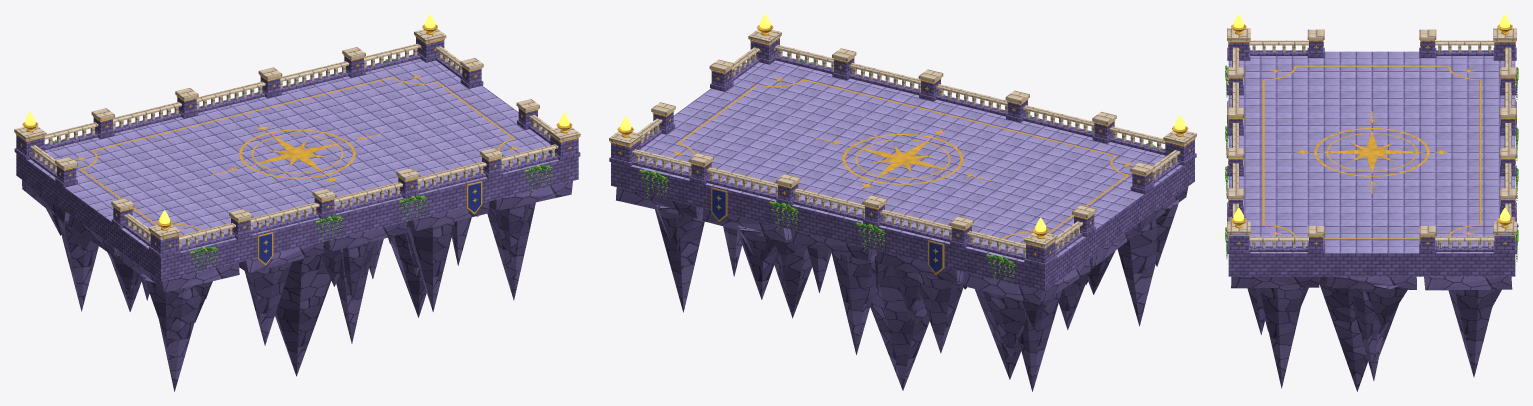
The model's file is Arena.fbx.
The picture shows the model from 3 angles, left to right: view 1: azimuth 30°, elevation 25°; view 2: azimuth 150°, elevation 25°; view 3: azimuth 270°, elevation 25°; orthographic projection. The views are drawn at different scales.
Visible parts, largest first — view 1: Mod_Arena, Arena_Baranda_04, Arena_Baranda_08, Arena_Baranda_02, Arena_Baranda_03, Arena_Baranda_07, Arena_Baranda_09, Arena_Poste_Esquina_01, Arena_Poste_Esquina_03, Arena_Poste_Esquina_02, Arena_Poste_Esquina_04, Arena_Baranda_05 (+15 smaller); view 2: Mod_Arena, Arena_Baranda_02, Arena_Baranda_03, Arena_Baranda_09, Arena_Baranda_04, Arena_Baranda_08, Arena_Baranda_07, Arena_Poste_Esquina_02, Arena_Poste_Esquina_04, Arena_Poste_Esquina_01, Arena_Poste_Esquina_03, Arena_Baranda_10 (+15 smaller); view 3: Mod_Arena, Arena_Baranda_13, Arena_Baranda_14, Arena_Poste_Esquina_03, Arena_Poste_Esquina_04, Arena_Baranda_11, Arena_Baranda_12, Arena_Poste_Esquina_01, Arena_Poste_Esquina_02, Arena_Poste_09, Arena_Poste_10, Arena_Poste_11 (+9 smaller).
Part boxes in pixels (left/top/right/bottom): Mod_Arena: left=16, top=58, right=578, bottom=391; Arena_Baranda_04: left=417, top=162, right=486, bottom=192; Arena_Baranda_08: left=196, top=81, right=265, bottom=112; Arena_Baranda_02: left=250, top=202, right=319, bottom=233; Arena_Baranda_03: left=334, top=182, right=402, bottom=213; Arena_Baranda_07: left=113, top=102, right=181, bottom=132; Arena_Baranda_09: left=280, top=61, right=349, bottom=92; Arena_Poste_Esquina_01: left=148, top=220, right=180, bottom=258; Arena_Poste_Esquina_03: left=548, top=123, right=580, bottom=160; Arena_Poste_Esquina_02: left=14, top=122, right=46, bottom=160; Arena_Poste_Esquina_04: left=414, top=24, right=446, bottom=62; Arena_Baranda_05: left=501, top=144, right=558, bottom=172; Mod_Arena: left=611, top=60, right=1194, bottom=391; Arena_Baranda_02: left=1022, top=105, right=1094, bottom=137; Arena_Baranda_03: left=936, top=84, right=1007, bottom=116; Arena_Baranda_09: left=706, top=167, right=777, bottom=199; Arena_Baranda_04: left=849, top=63, right=920, bottom=95; Arena_Baranda_08: left=793, top=188, right=864, bottom=220; Arena_Baranda_07: left=880, top=209, right=951, bottom=241; Arena_Poste_Esquina_02: left=1024, top=228, right=1057, bottom=267; Arena_Poste_Esquina_04: left=609, top=127, right=642, bottom=166; Arena_Poste_Esquina_01: left=1163, top=126, right=1196, bottom=165; Arena_Poste_Esquina_03: left=748, top=25, right=781, bottom=64; Arena_Baranda_10: left=632, top=149, right=691, bottom=178; Mod_Arena: left=1228, top=51, right=1518, bottom=391; Arena_Baranda_13: left=1249, top=236, right=1308, bottom=251; Arena_Baranda_14: left=1435, top=236, right=1494, bottom=251; Arena_Poste_Esquina_03: left=1227, top=217, right=1250, bottom=253; Arena_Poste_Esquina_04: left=1493, top=217, right=1516, bottom=253; Arena_Baranda_11: left=1249, top=40, right=1308, bottom=55; Arena_Baranda_12: left=1435, top=40, right=1494, bottom=55; Arena_Poste_Esquina_01: left=1227, top=24, right=1250, bottom=60; Arena_Poste_Esquina_02: left=1493, top=24, right=1516, bottom=60; Arena_Poste_09: left=1307, top=29, right=1324, bottom=57; Arena_Poste_10: left=1419, top=29, right=1436, bottom=57; Arena_Poste_11: left=1307, top=226, right=1324, bottom=253.
Bounding box in the file's own units: 30.45 × 18.16 × 18.44.
